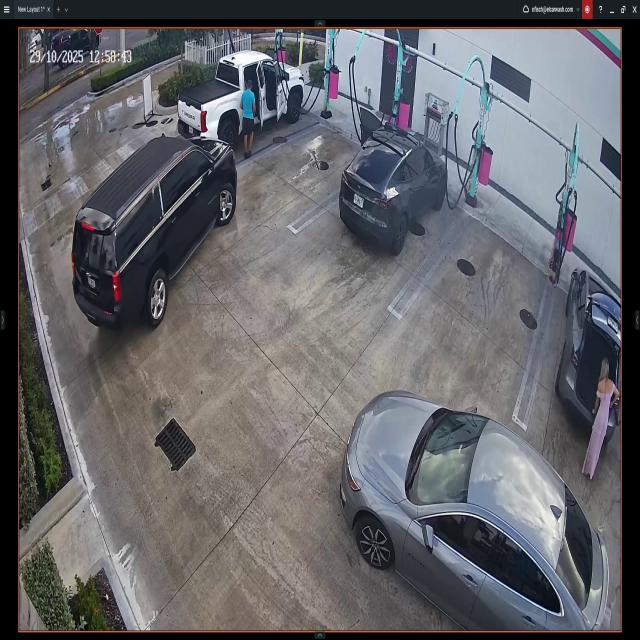Car: (348, 391, 616, 631), (72, 139, 237, 323), (347, 106, 446, 255), (178, 45, 302, 153), (562, 275, 618, 438)
